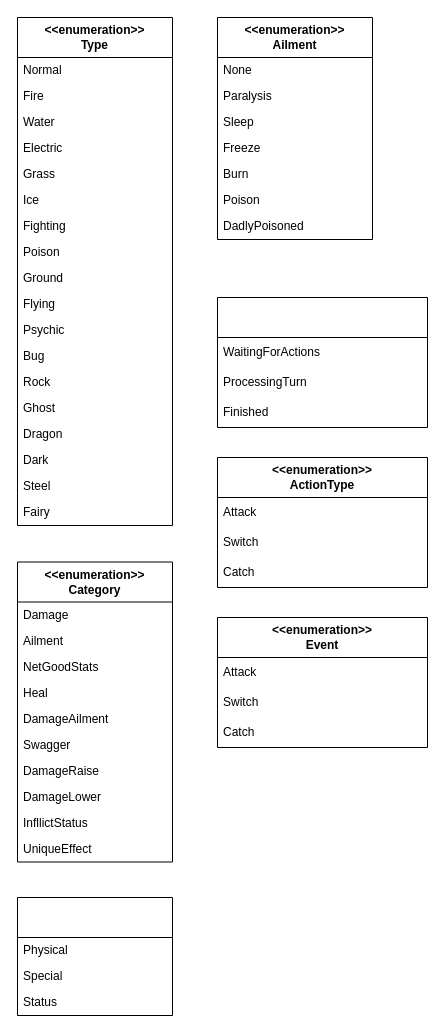
The diagram is 445 pixels wide and 1033 high, and some of its shapes have lost their labels. The box of each missing label's shape, as (x1, y1, x2, y2) in pixels:
<<enumeration>> DamageClass: (16, 896, 172, 1016)
<<enumeration>> GameState: (216, 296, 428, 428)
